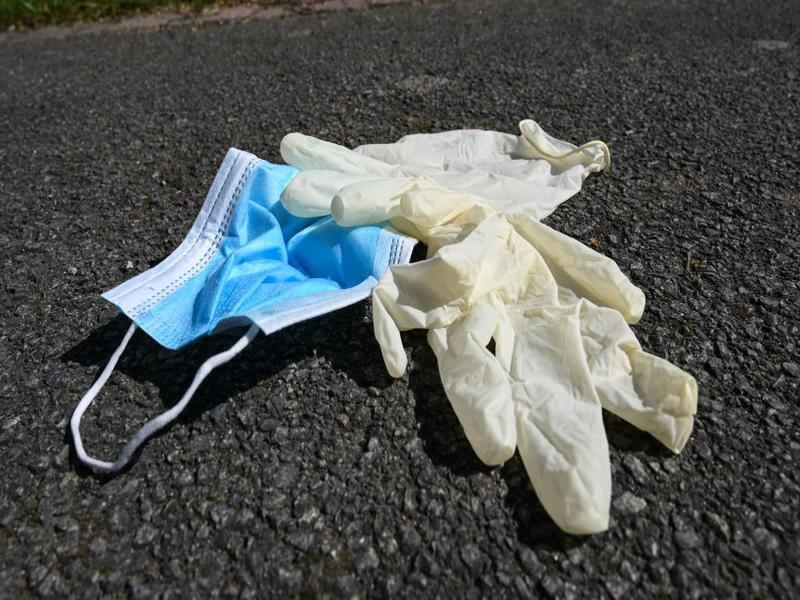gloves: (374, 207, 700, 537), (269, 119, 615, 236)
mask: (67, 145, 422, 478)
